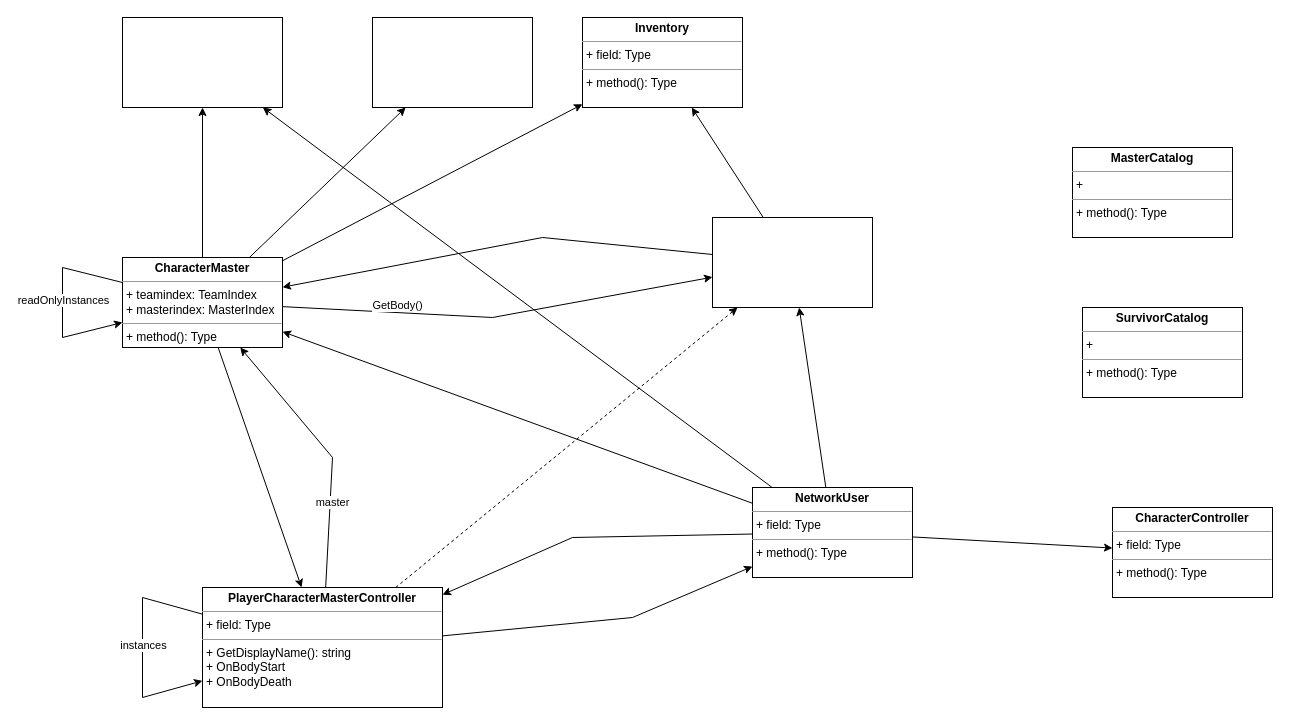
Some shapes in this 1290 by 725 pixel diagram are drawn without their labels. The box of each missing label's shape, as (x1, y1, x2, y2) in pixels:
CharacterBody + field: Type + method(): Type: (712, 216, 872, 308)
Loadout + field: Type + method(): Type: (372, 16, 532, 108)
PlayerStatsComponent + field: Type + method(): Type: (122, 16, 282, 108)
